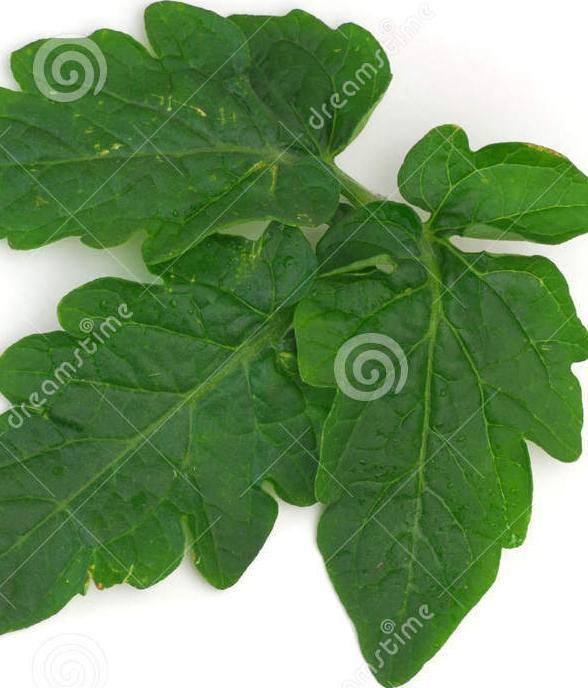Tomato leaf: (0, 186, 405, 685), (264, 223, 588, 688), (0, 0, 491, 294)
